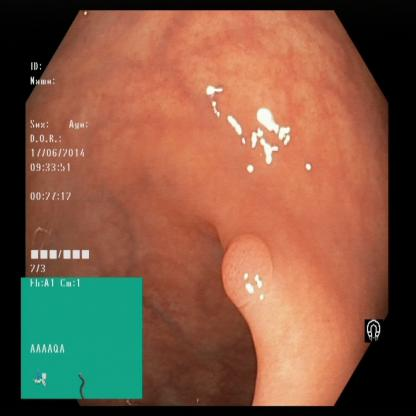Labels: (26, 57, 106, 279), (20, 281, 144, 400), (359, 310, 392, 350)
Polyps: (212, 220, 282, 324)
